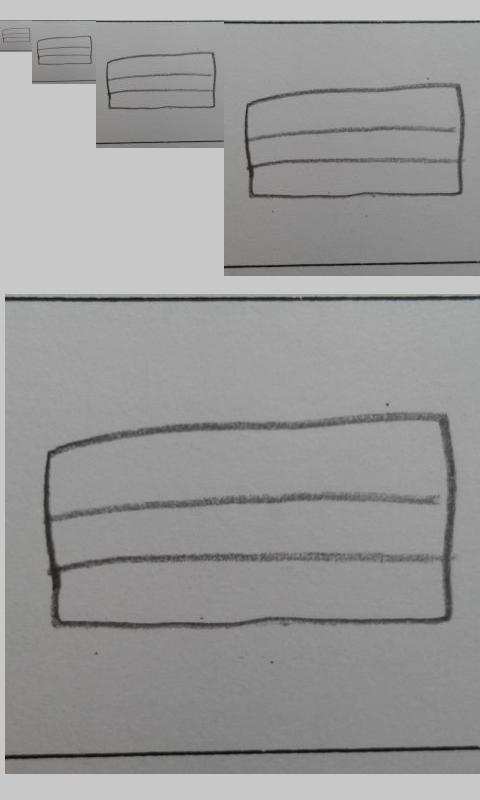list_view: (42, 409, 459, 636), (242, 82, 465, 200), (105, 51, 218, 111), (36, 35, 94, 66), (1, 27, 31, 44)
